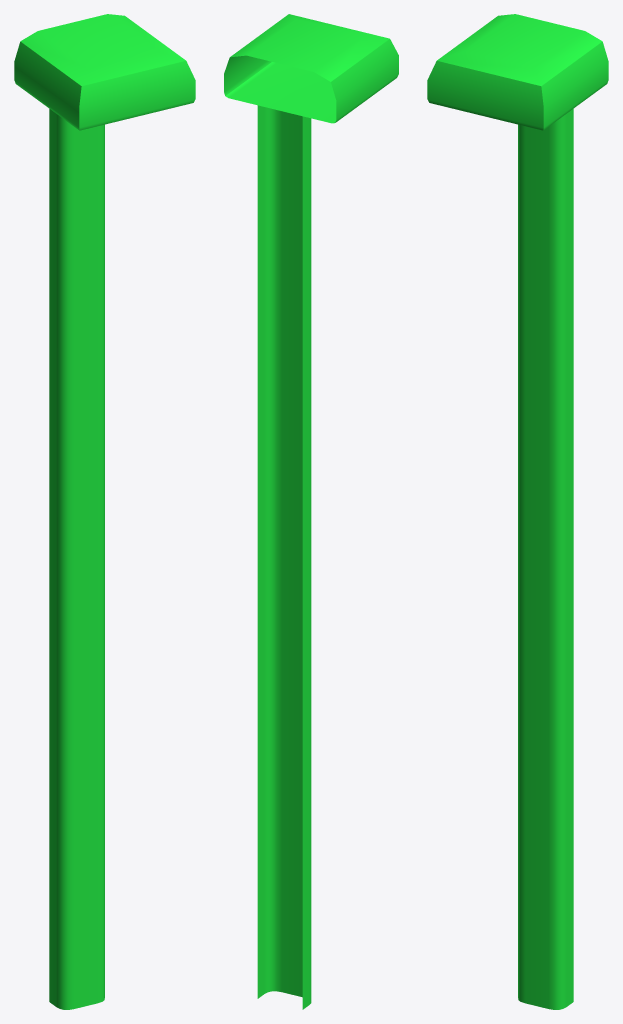
The model's file is railing_ending_low.fbx.
3 renders of one model, left to right at view 1: azimuth 30°, elevation 25°; view 2: azimuth 150°, elevation 25°; view 3: azimuth 330°, elevation 25°, orthographic. The views are drawn at different scales.
Visible parts, largest first — view 1: Box031; view 2: Box031; view 3: Box031.
Boxes of the visible parts, <box> form: Box031: <box>14,14,195,1009</box>; Box031: <box>224,14,398,1009</box>; Box031: <box>427,14,608,1009</box>.
Size of the model in its own units: 12.5 by 100 by 12.04.
